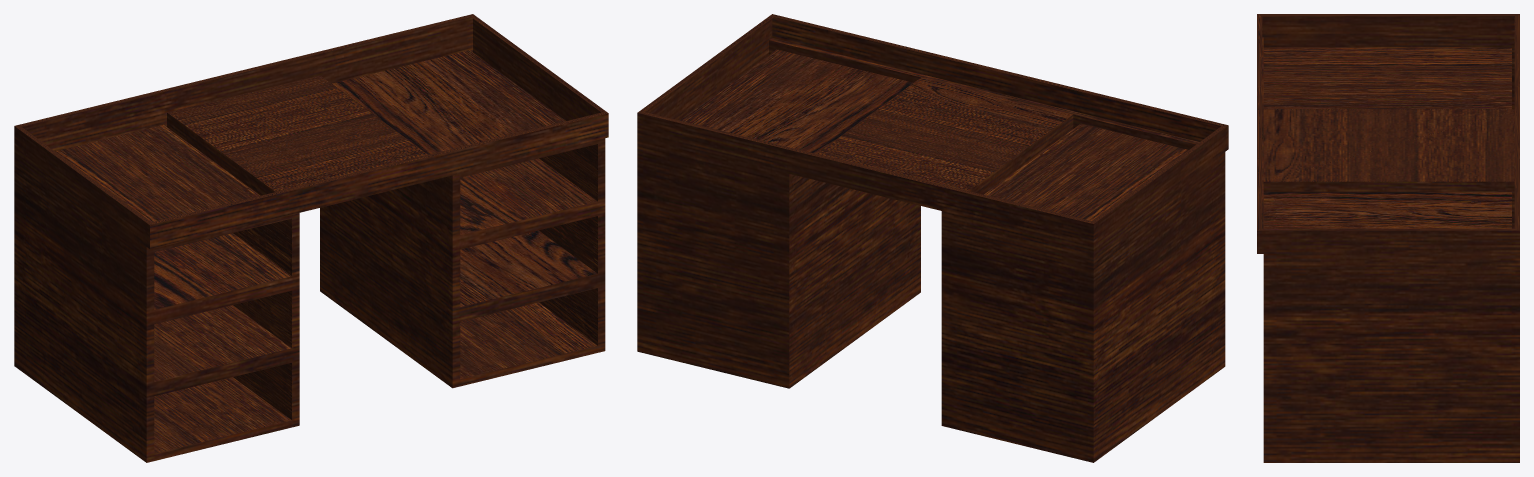
Rendered from Table_NoTop.fbx.
3 views of the same model, side by side, from view 1: azimuth 30°, elevation 25°; view 2: azimuth 150°, elevation 25°; view 3: azimuth 270°, elevation 25° (orthographic). The views are drawn at different scales.
Visible parts, largest first — view 1: Body; view 2: Body; view 3: Body.
Part boxes in pixels (x1,y1,x2,y2): Body: [14, 14, 608, 462]; Body: [637, 14, 1228, 462]; Body: [1257, 14, 1519, 462].
Size of the model in its own units: 200 by 100 by 102.
